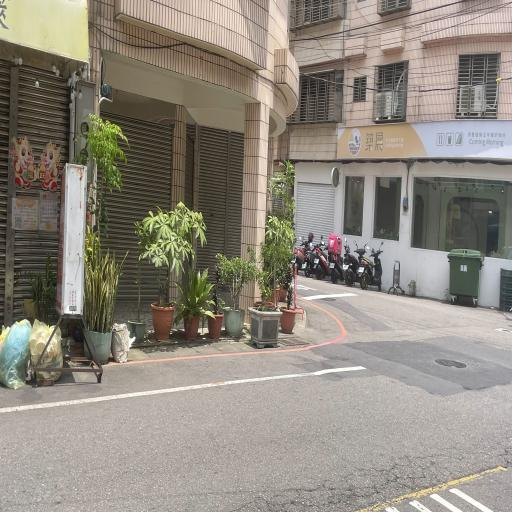redline: (108, 276, 351, 375)
